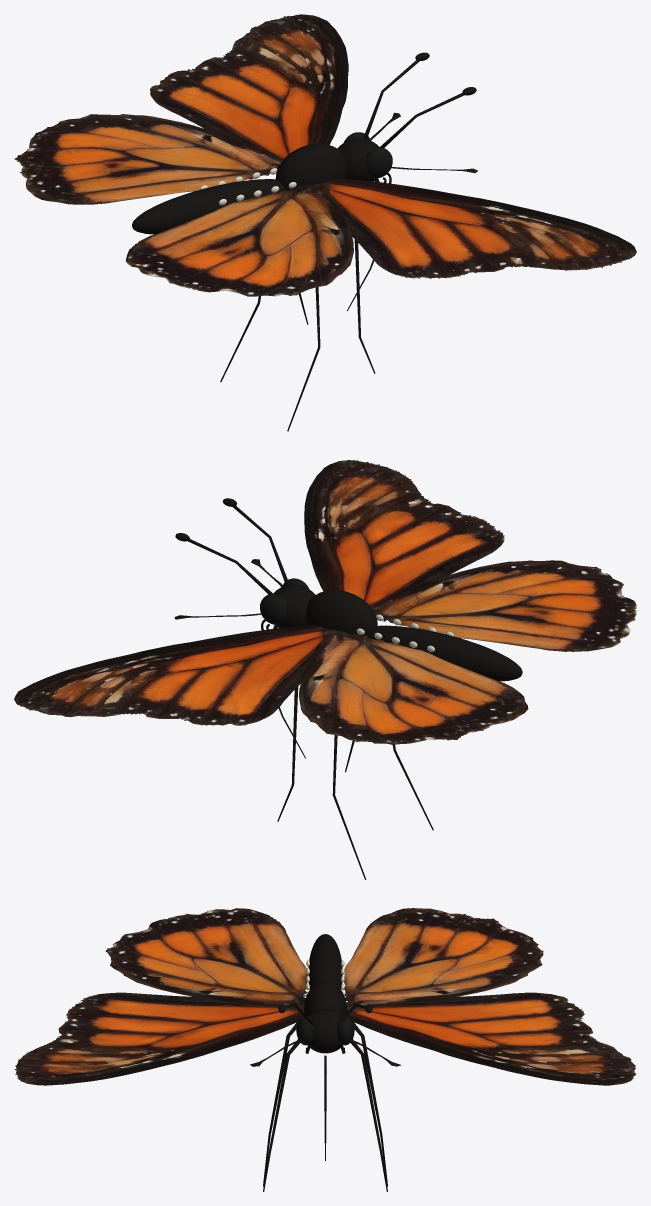
The model's file is monarch_graft.glb.
The picture shows the model from 3 angles, top to bottom: view 1: azimuth 30°, elevation 25°; view 2: azimuth 150°, elevation 25°; view 3: azimuth 270°, elevation 25°; orthographic projection. The views are drawn at different scales.
Visible parts, largest first — view 1: ForeWingSurfaceL, ForeWingSurfaceR, HindWingSurfaceL, HindWingSurfaceR, Abdomen, Thorax, Head, Eye.001; view 2: ForeWingSurfaceR, ForeWingSurfaceL, HindWingSurfaceR, HindWingSurfaceL, Abdomen, Thorax, Head, Eye; view 3: ForeWingSurfaceL, ForeWingSurfaceR, HindWingSurfaceR, HindWingSurfaceL, Abdomen, Head, Thorax, WalkingLeg.003, WalkingLeg.001, WalkingLeg, WalkingLeg.002.
Part boxes in pixels (x1,y1,x2,y2): ForeWingSurfaceL: (287,167,636,278); ForeWingSurfaceR: (150,14,400,175); HindWingSurfaceL: (125,191,403,296); HindWingSurfaceR: (14,91,267,204); Abdomen: (132,179,286,234); Thorax: (275,143,346,190); Head: (337,138,379,181); Eye.001: (365,147,392,178); ForeWingSurfaceR: (14,613,367,725); ForeWingSurfaceL: (251,460,504,621); HindWingSurfaceR: (249,636,528,744); HindWingSurfaceL: (387,537,636,651); Abdomen: (367,625,522,681); Thorax: (306,590,377,636); Head: (273,584,315,627); Eye: (260,593,287,624); ForeWingSurfaceL: (14,993,306,1085); ForeWingSurfaceR: (344,993,636,1085); HindWingSurfaceR: (343,908,559,998); HindWingSurfaceL: (92,908,307,997); Abdomen: (308,934,342,989); Head: (308,1009,342,1053); Thorax: (304,980,346,1015); WalkingLeg.003: (263,1022,297,1186); WalkingLeg.001: (353,1022,387,1186); WalkingLeg: (350,1039,387,1191); WalkingLeg.002: (263,1039,300,1191).
Bounding box in the file's own units: 0.0684 × 0.0476 × 0.1006.
Materials: 4 (1 with a texture image).
